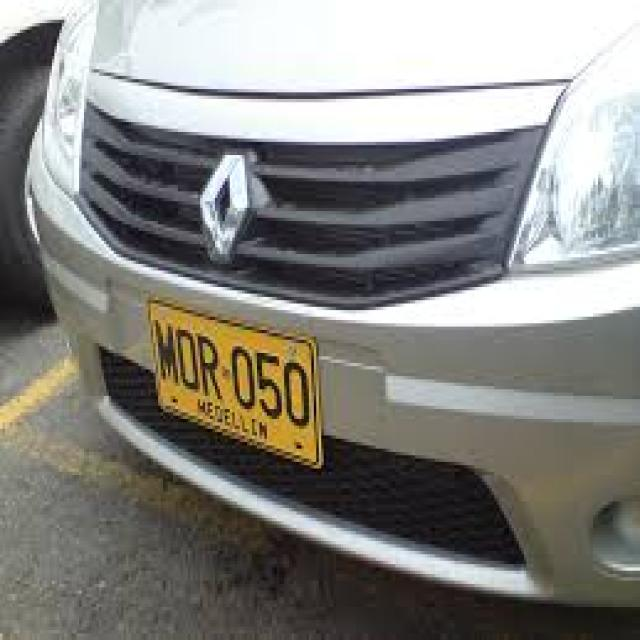placa_carro: (150, 296, 322, 479)
